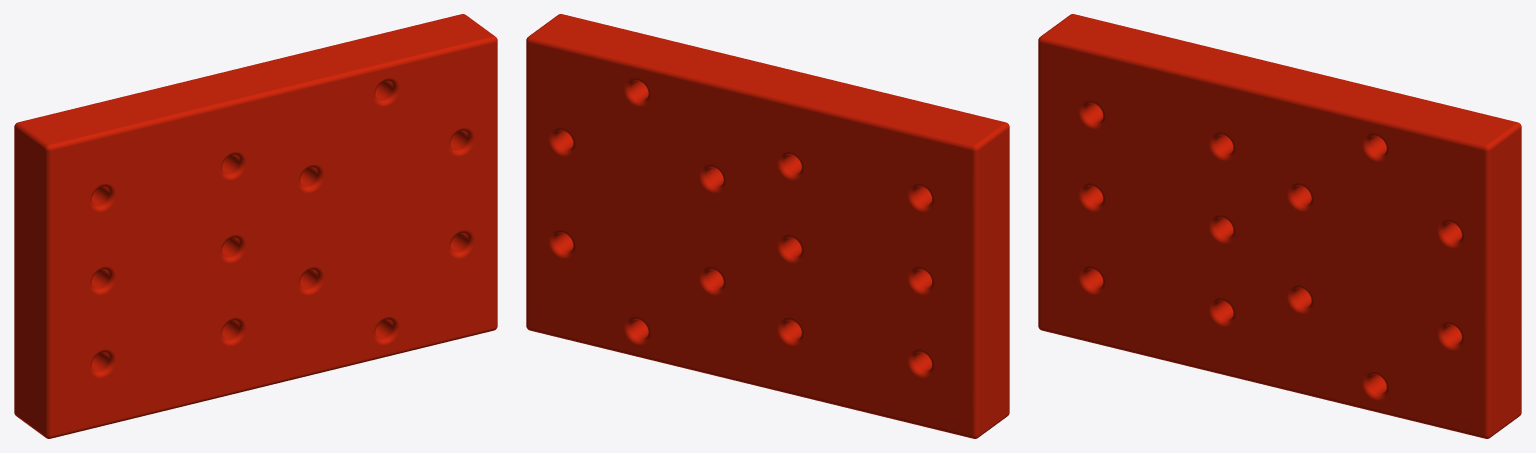
Rendered from peg_board.OBJ.
3 views of the same model, side by side, from view 1: azimuth 30°, elevation 25°; view 2: azimuth 150°, elevation 25°; view 3: azimuth 330°, elevation 25° (orthographic).
Visible parts, largest first — view 1: peg_board; view 2: peg_board; view 3: peg_board.
Part boxes in pixels (x1,y1,x2,y2): peg_board: [14, 14, 497, 438]; peg_board: [526, 14, 1009, 438]; peg_board: [1038, 14, 1521, 438].
Bounding box in the file's own units: 0.1014 × 0.063 × 0.0135.
